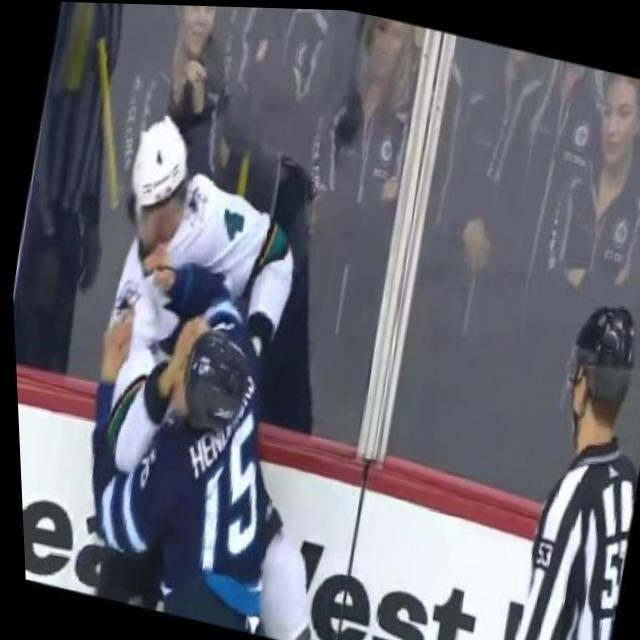fight: (34, 102, 370, 640)
